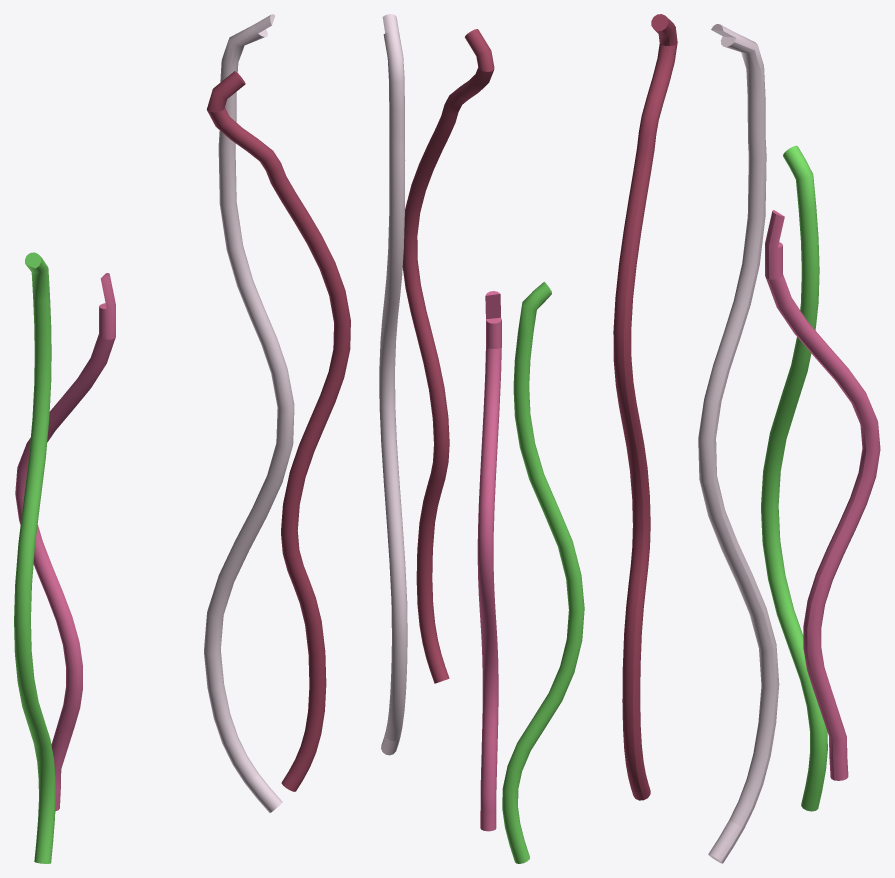
The picture shows the model from 3 angles, left to right: view 1: azimuth 30°, elevation 25°; view 2: azimuth 150°, elevation 25°; view 3: azimuth 270°, elevation 25°; orthographic projection. The views are drawn at different scales.
Parts seen in each view (by area): view 1: split_parent_4, split_parent_0, Object_7.099, split_parent_2; view 2: split_parent_4, split_parent_0, Object_7.099, split_parent_2; view 3: split_parent_4, split_parent_0, Object_7.099, split_parent_2.
Part boxes in pixels (x1,y1,x2,y2): split_parent_4: (204, 14, 294, 812); split_parent_0: (207, 71, 350, 791); Object_7.099: (14, 252, 55, 863); split_parent_2: (15, 273, 115, 811); split_parent_4: (379, 14, 407, 755); split_parent_0: (402, 29, 494, 683); Object_7.099: (502, 282, 584, 863); split_parent_2: (477, 291, 501, 831); split_parent_4: (698, 24, 779, 863); split_parent_0: (613, 14, 677, 800); Object_7.099: (761, 145, 827, 811); split_parent_2: (765, 210, 880, 780).
Bounding box in the file's own units: 0.3314 × 1 × 0.2753.
